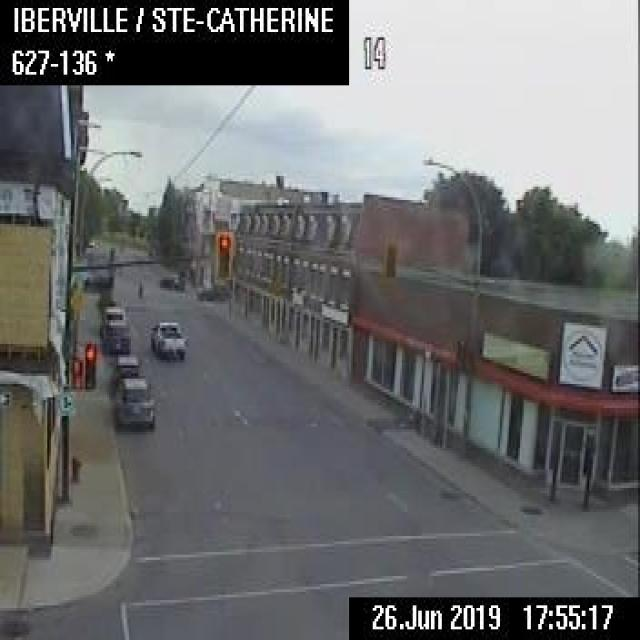pedestrian: (136, 278, 142, 298)
vehicle: (114, 374, 154, 424), (149, 317, 187, 360), (100, 317, 130, 352), (112, 353, 140, 386), (98, 303, 125, 334), (196, 280, 231, 299), (158, 271, 184, 289), (84, 273, 112, 289)
